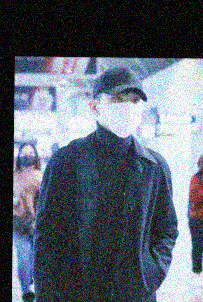with_mask: (100, 91, 143, 139), (18, 146, 37, 167)
